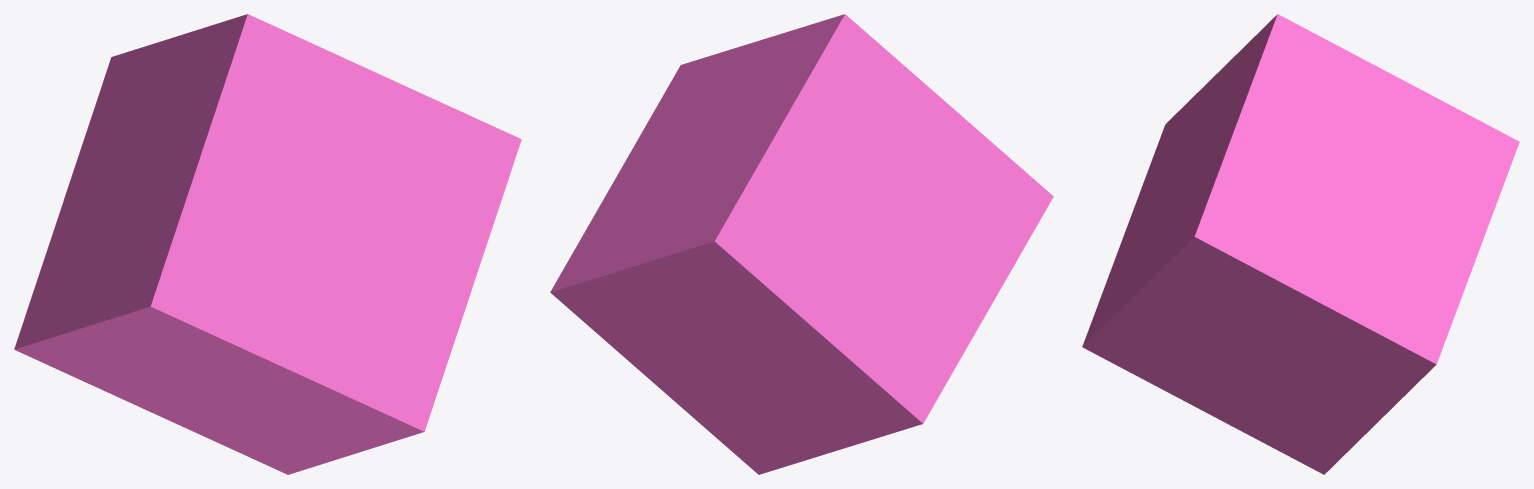
File: InfoExpo_JosephBeuys.gltf
The picture shows the model from 3 angles, left to right: view 1: azimuth 30°, elevation 25°; view 2: azimuth 150°, elevation 25°; view 3: azimuth 270°, elevation 25°; orthographic projection. The views are drawn at different scales.
Parts seen in each view (by area): view 1: InfoExpo_JosephBeuys; view 2: InfoExpo_JosephBeuys; view 3: InfoExpo_JosephBeuys.
Part boxes in pixels (box(x1,y1,x2,y2)): InfoExpo_JosephBeuys: box(14, 14, 521, 474); InfoExpo_JosephBeuys: box(550, 14, 1053, 474); InfoExpo_JosephBeuys: box(1082, 14, 1519, 474).
Size of the model in its own units: 0.3012 by 0.3661 by 0.3357.
